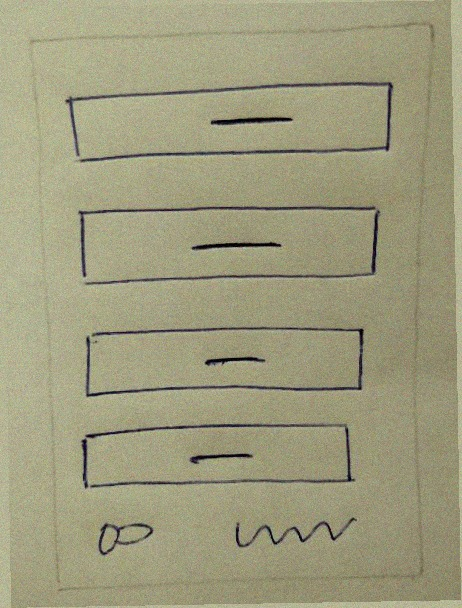button: (58, 74, 398, 172), (69, 196, 389, 288), (77, 314, 378, 401), (73, 415, 359, 500)
switch: (87, 511, 162, 562)
text: (221, 504, 360, 563)
